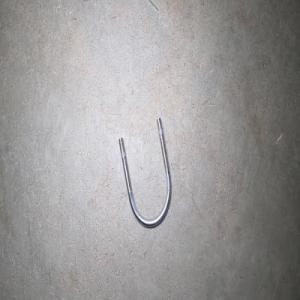ClampPart: (117, 116, 172, 229)
